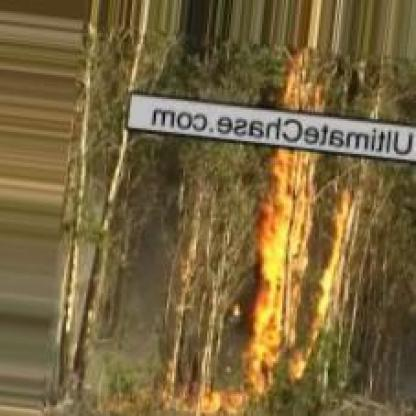fire: (236, 44, 355, 394), (146, 369, 256, 412)
